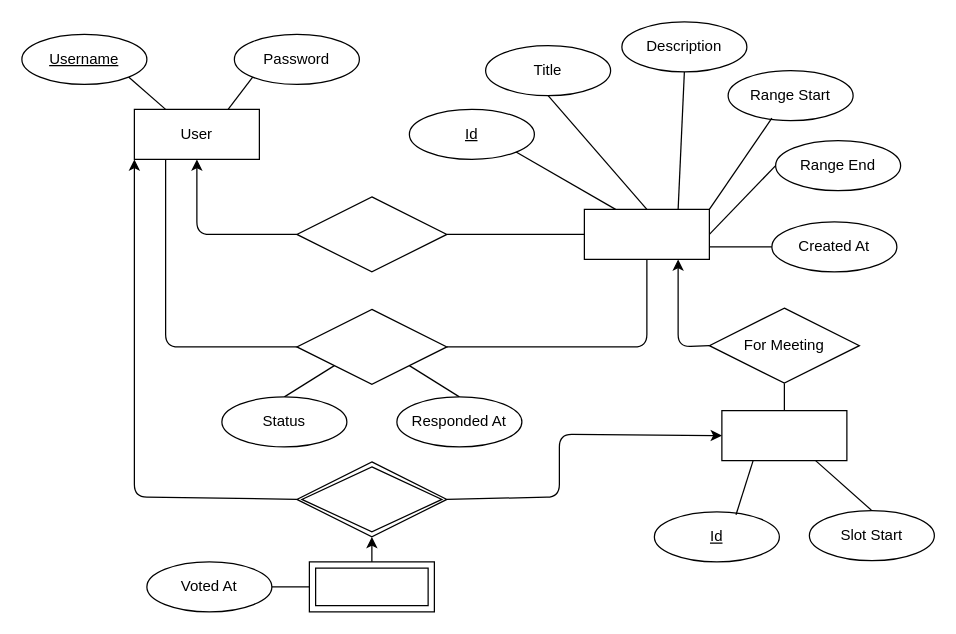
Image size: 956x634. Some labels were removed from this diagram. The box of each missing label's shape, as (x1, y1, x2, y2) in pixels:
Created By: (296, 196, 447, 272)
Meeting: (583, 208, 709, 259)
Relationship: (296, 461, 447, 537)
Time Slot: (721, 409, 847, 461)
Vote: (308, 561, 434, 612)
With Participants: (296, 308, 447, 384)
